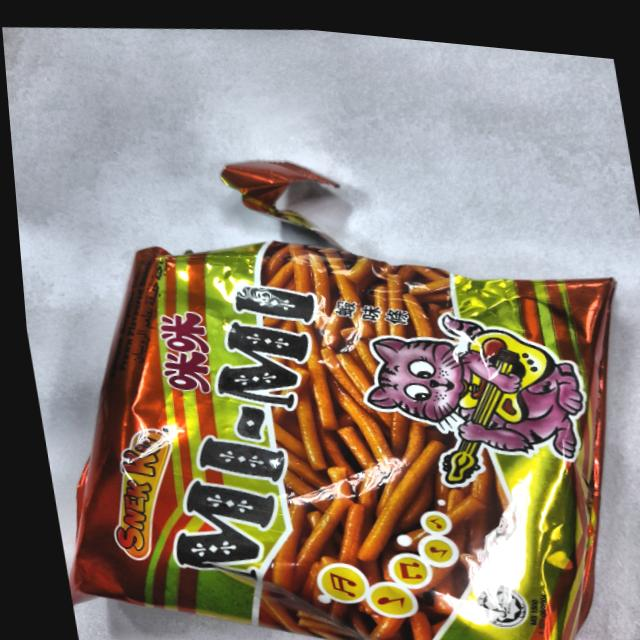Plastic: (16, 111, 640, 640)
